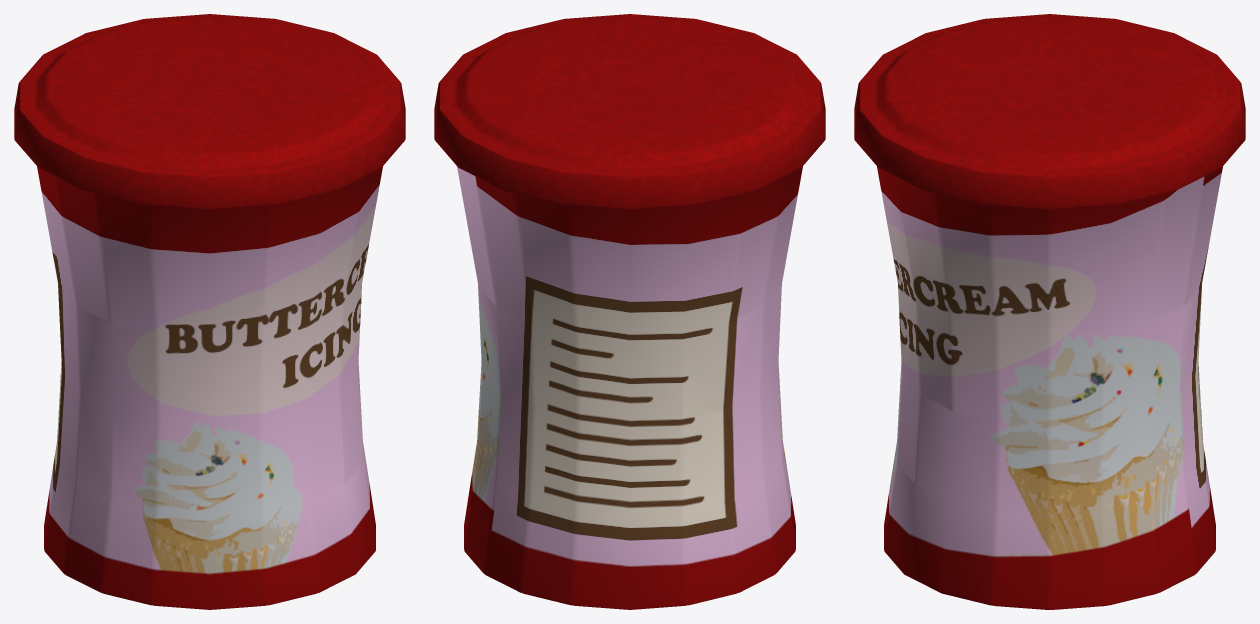
File: buttercream Icing.fbx
3 views of the same model, side by side, from view 1: azimuth 30°, elevation 25°; view 2: azimuth 150°, elevation 25°; view 3: azimuth 270°, elevation 25° (orthographic).
Parts seen in each view (by area): view 1: butter cream icing; view 2: butter cream icing; view 3: butter cream icing.
Boxes of the visible parts, box(x1,y1,x2,y2) form: butter cream icing: box(14, 14, 405, 609); butter cream icing: box(434, 14, 825, 609); butter cream icing: box(854, 14, 1245, 609).
Bounding box in the file's own units: 11.74 × 14.8 × 11.56.
